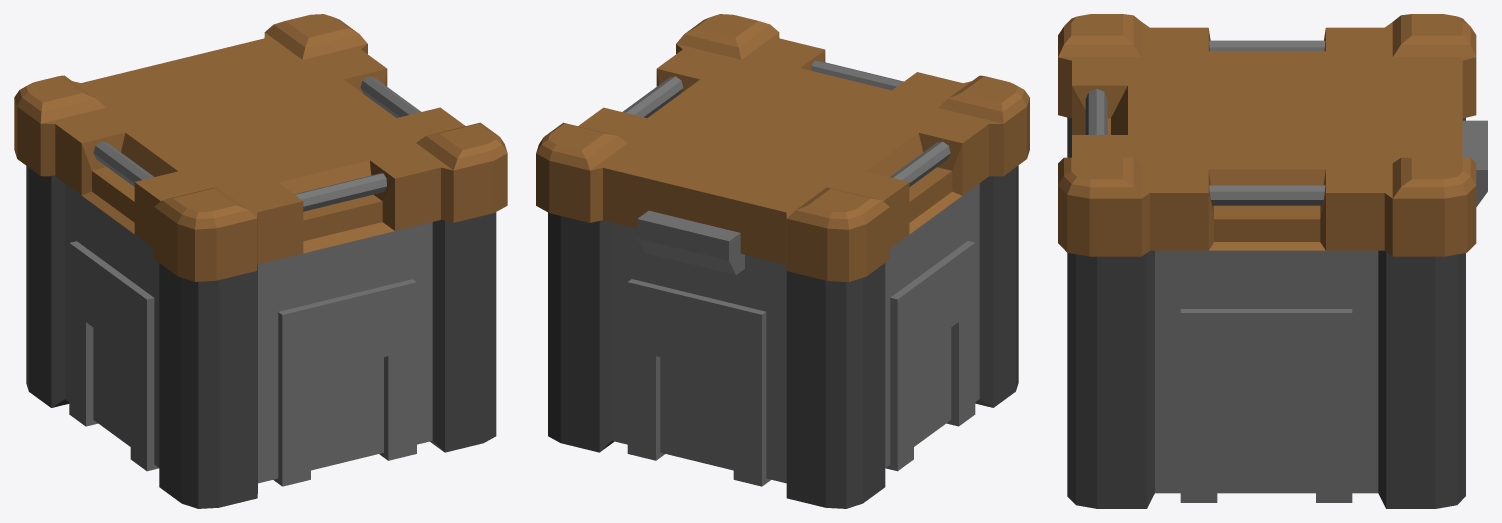
File: lootbox.gltf
The picture shows the model from 3 angles, left to right: view 1: azimuth 30°, elevation 25°; view 2: azimuth 150°, elevation 25°; view 3: azimuth 270°, elevation 25°; orthographic projection. The views are drawn at different scales.
Parts seen in each view (by area): view 1: Lootbox_Base, Lootbox_Top; view 2: Lootbox_Base, Lootbox_Top; view 3: Lootbox_Base, Lootbox_Top.
Boxes of the visible parts, x1=… form: Lootbox_Base: x1=26, y1=166, x2=496, y2=508; Lootbox_Top: x1=14, y1=14, x2=507, y2=281; Lootbox_Base: x1=548, y1=165, x2=1018, y2=508; Lootbox_Top: x1=536, y1=14, x2=1029, y2=282; Lootbox_Base: x1=1067, y1=117, x2=1465, y2=508; Lootbox_Top: x1=1058, y1=14, x2=1487, y2=256.
Bounding box in the file's own units: 16.76 × 14.5 × 17.22.
